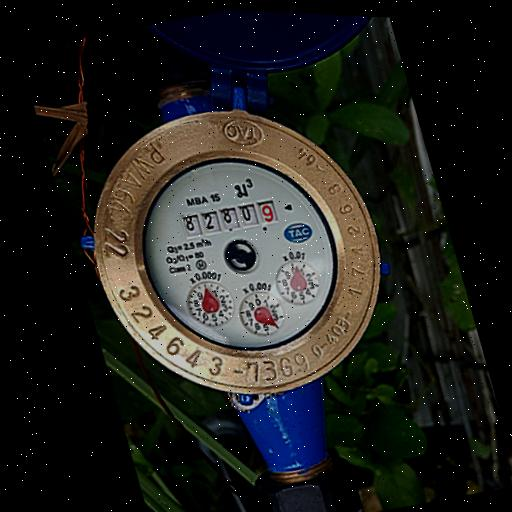0: (241, 204, 259, 226)
2: (201, 210, 221, 233)
8: (220, 205, 240, 231), (184, 213, 202, 237)
9: (259, 201, 277, 224)
border_water_meter_number: (175, 189, 286, 248)
